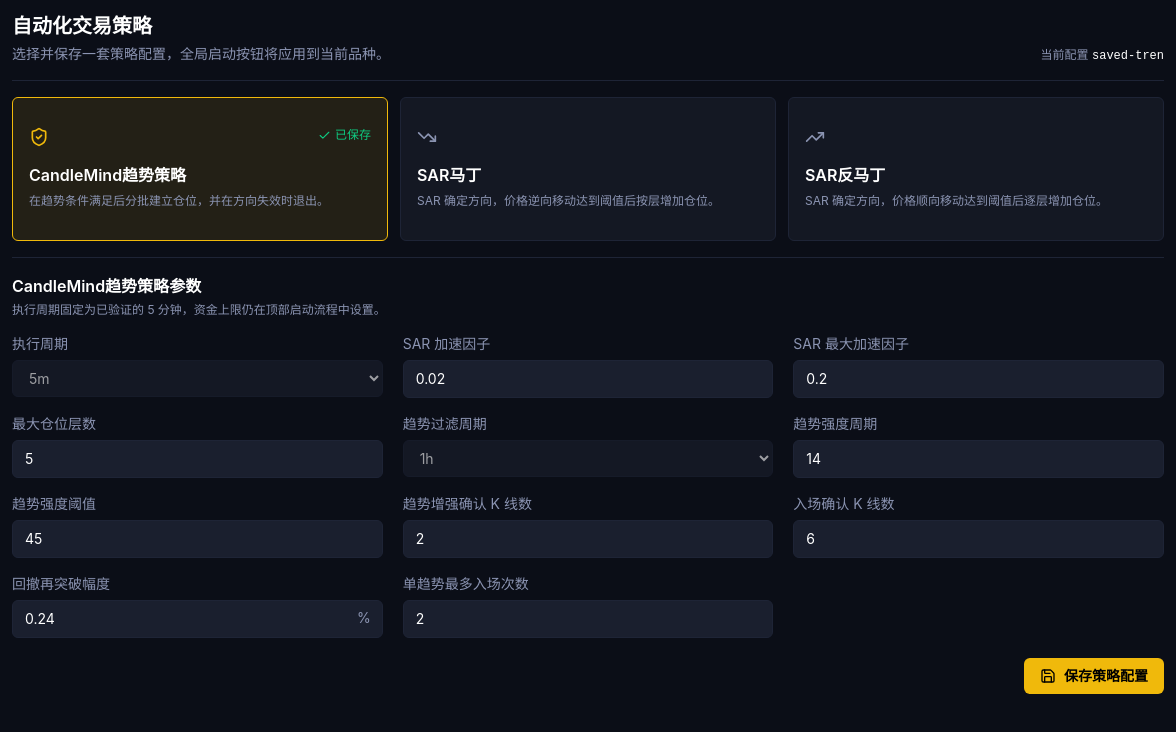
Test: Strategies › switches dynamic fields and saves the selected strategy
The width and height of the screenshot is (1176, 732).
Step 1. Click the button "SAR马丁 SAR 确定方向，价格逆向移动达到阈值后按层增加仓位。" → (449, 175), box top-left (400, 97), bottom-right (776, 241)
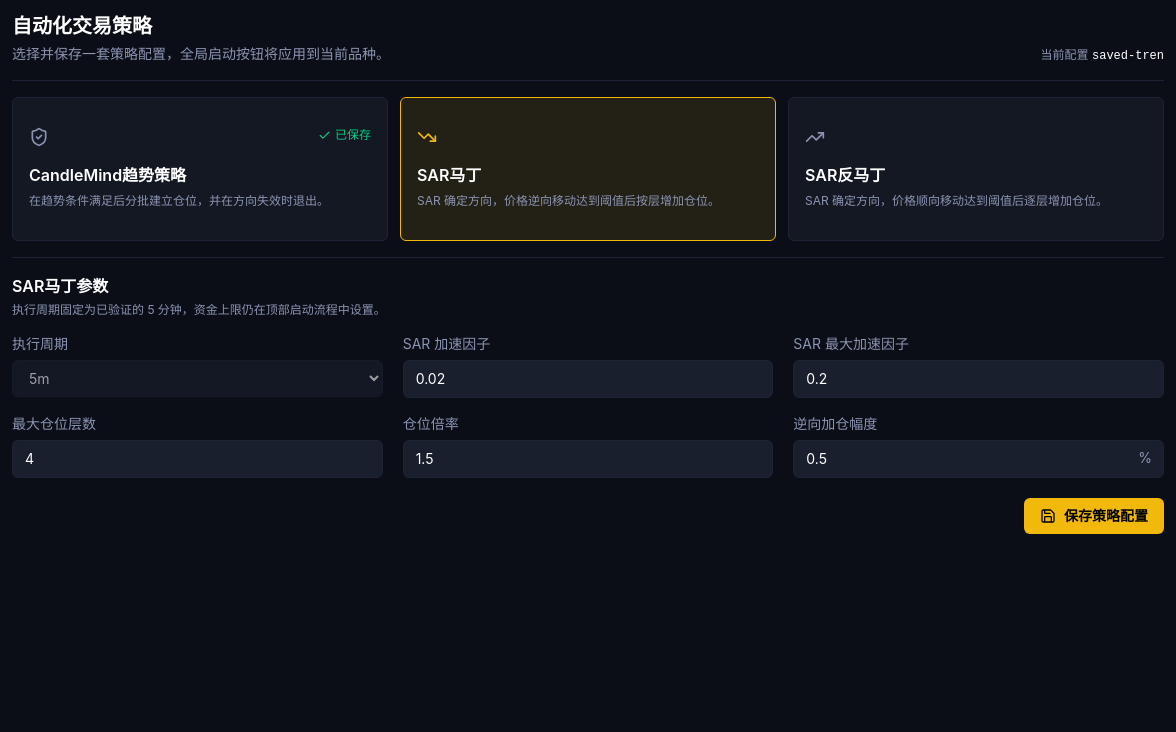
Expected: the number field labelled "逆向加仓幅度" holds "0.5", top-left (793, 440), bottom-right (1164, 478)
Step 2. Replace the text in the number field labelled "仓位倍率" with "1.6" → (588, 459), box top-left (403, 440), bottom-right (773, 478)
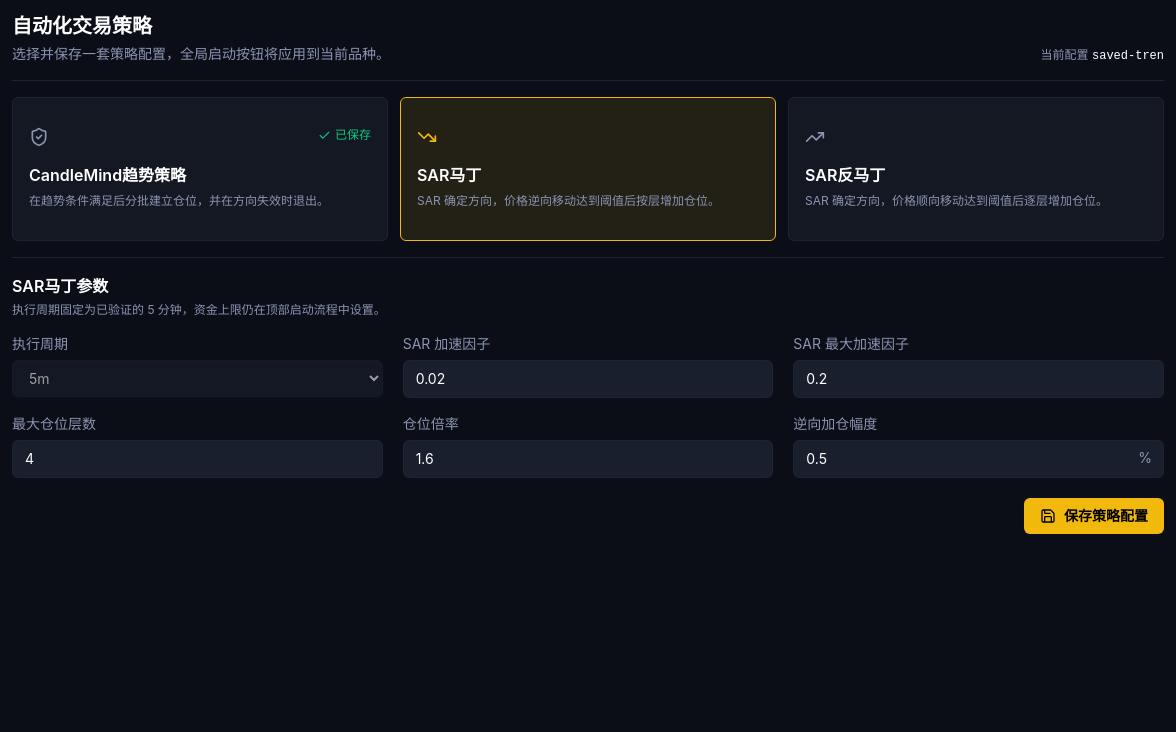
Step 3. Click the button "保存策略配置" → (1094, 516), box top-left (1024, 498), bottom-right (1164, 534)
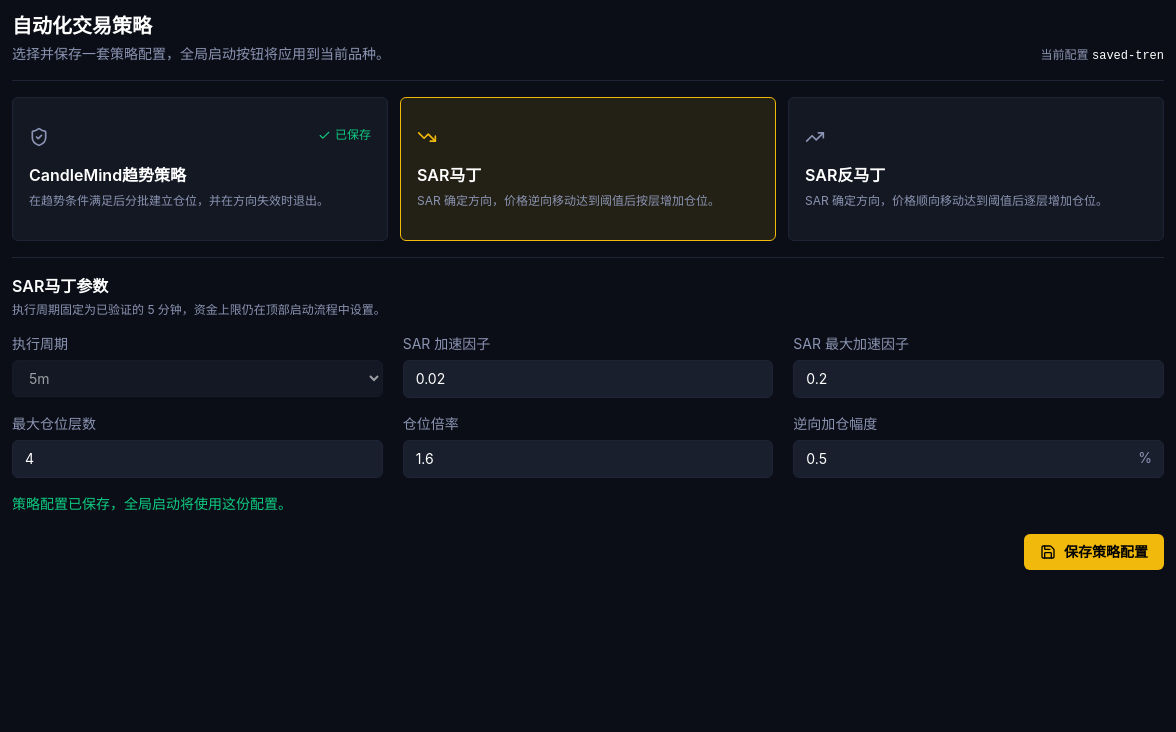
Expected: the message shows "全局启动", top-left (12, 495), bottom-right (292, 512)
